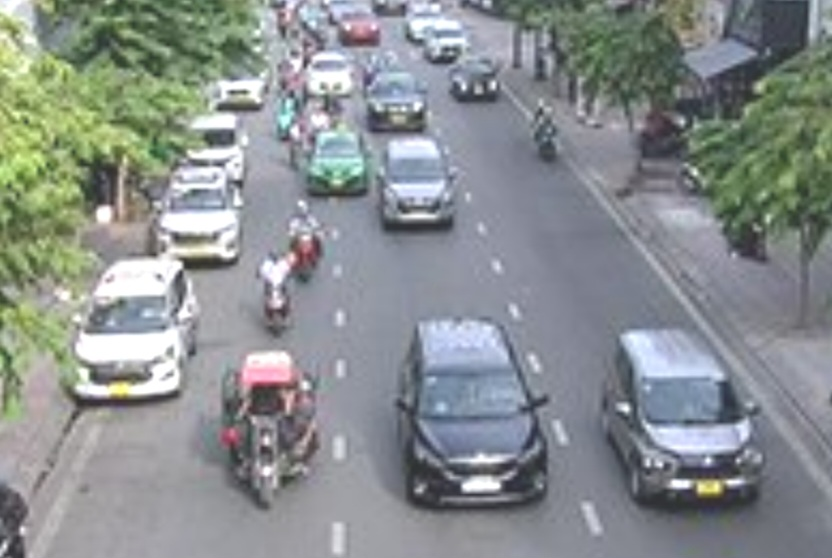car: (400, 315, 551, 511), (605, 331, 762, 507), (59, 262, 199, 401), (150, 166, 246, 266), (376, 135, 463, 232), (307, 127, 383, 202), (185, 114, 250, 178), (369, 72, 428, 133), (448, 56, 506, 108), (305, 53, 358, 96)
